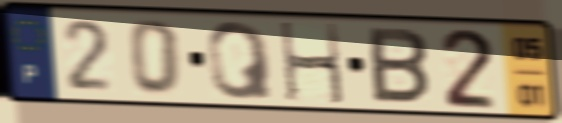0: (124, 16, 186, 99)
2: (438, 26, 498, 113), (61, 17, 116, 94)
B: (366, 24, 432, 108)
H: (276, 20, 348, 108)
Q: (204, 19, 278, 103)
